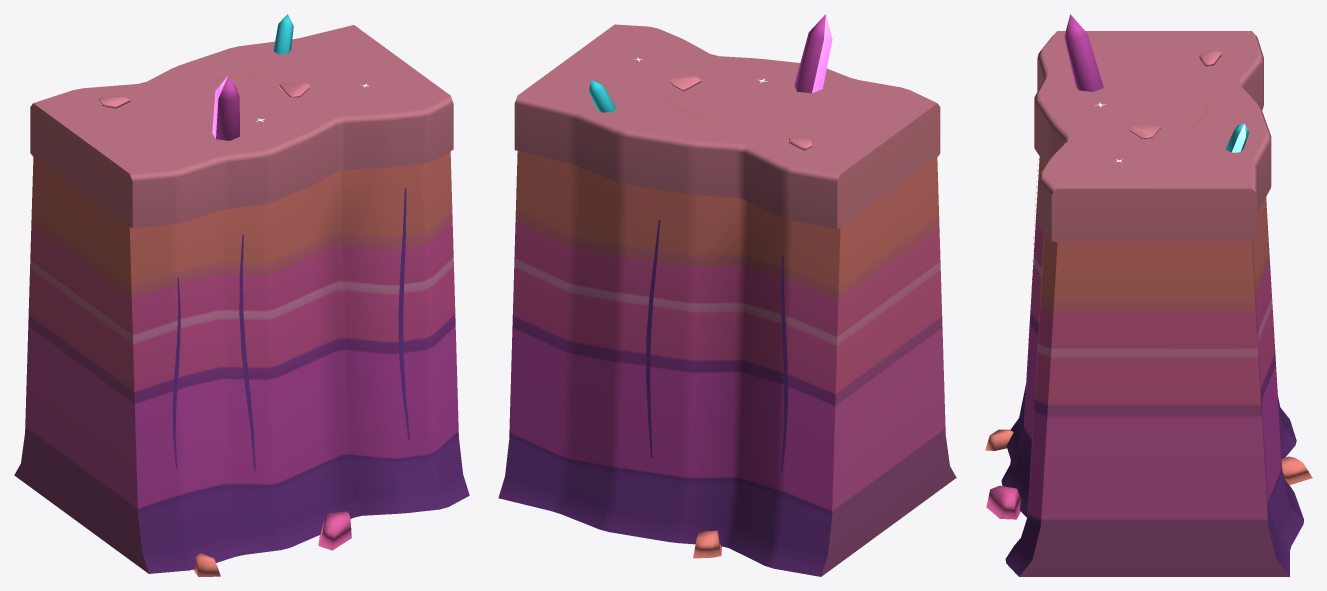
File: mesa_cliff_b.glb
3 renders of one model, left to right at view 1: azimuth 30°, elevation 25°; view 2: azimuth 150°, elevation 25°; view 3: azimuth 270°, elevation 25°, orthographic.
Visible parts, largest first — view 1: MesaCliffB.001; view 2: MesaCliffB.001; view 3: MesaCliffB.001.
Boxes of the visible parts, box(x1,y1,x2,y2) form: MesaCliffB.001: box(14, 14, 469, 576); MesaCliffB.001: box(498, 14, 956, 576); MesaCliffB.001: box(985, 14, 1312, 576).
Bounding box in the file's own units: 2 × 2.74 × 1.76.
